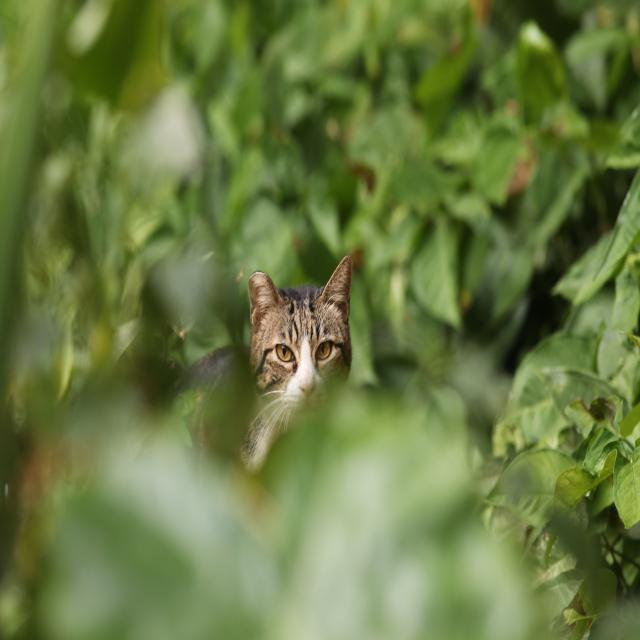cat: (236, 256, 371, 454)
